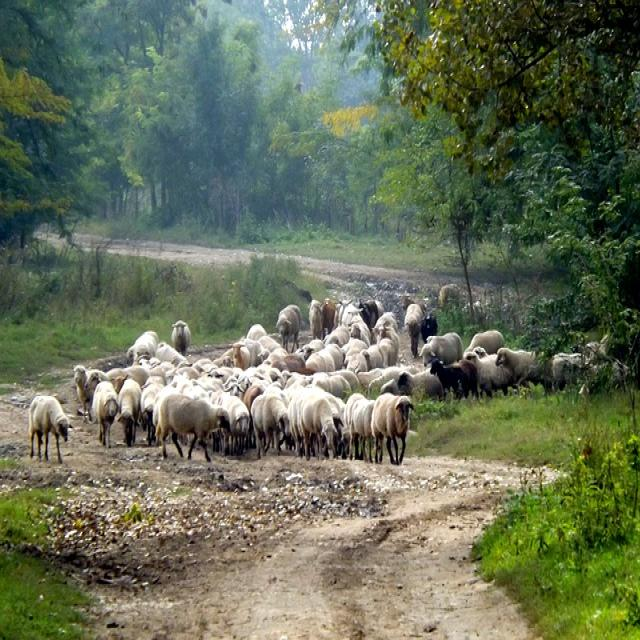goat: (156, 397, 229, 461), (371, 393, 414, 464), (251, 387, 290, 458), (29, 395, 70, 462), (300, 390, 336, 458), (211, 392, 250, 454), (462, 350, 512, 396), (344, 393, 375, 461), (431, 358, 479, 398), (92, 382, 119, 446), (74, 365, 106, 419), (118, 378, 141, 446), (420, 332, 464, 365), (496, 348, 536, 382), (404, 303, 425, 358), (276, 305, 301, 351), (398, 372, 441, 398), (310, 298, 336, 338), (265, 348, 309, 371), (126, 332, 159, 362), (224, 372, 251, 398), (305, 348, 334, 372), (171, 320, 191, 354), (350, 315, 370, 346), (361, 345, 385, 369), (321, 298, 336, 334), (374, 312, 397, 334), (378, 338, 396, 366), (345, 352, 368, 372), (341, 303, 360, 326)
